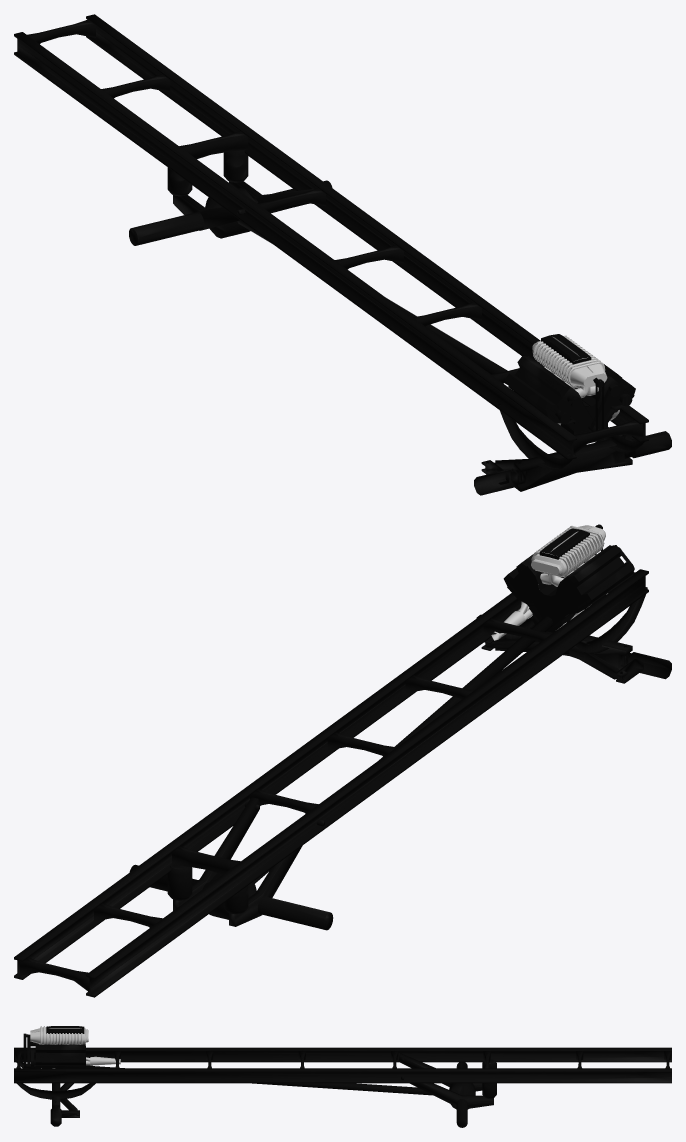
3 views of the same model, one above another, from view 1: azimuth 30°, elevation 25°; view 2: azimuth 150°, elevation 25°; view 3: azimuth 270°, elevation 25° (orthographic). The views are drawn at different scales.
Visible parts, largest first — view 1: motor; view 2: motor; view 3: motor.
Boxes of the visible parts, left/top/right/bottom form: motor: left=14, top=14, right=671, bottom=495; motor: left=14, top=524, right=671, bottom=997; motor: left=14, top=1026, right=671, bottom=1127.
Bounding box in the file's own units: 2.44 × 1.58 × 12.
